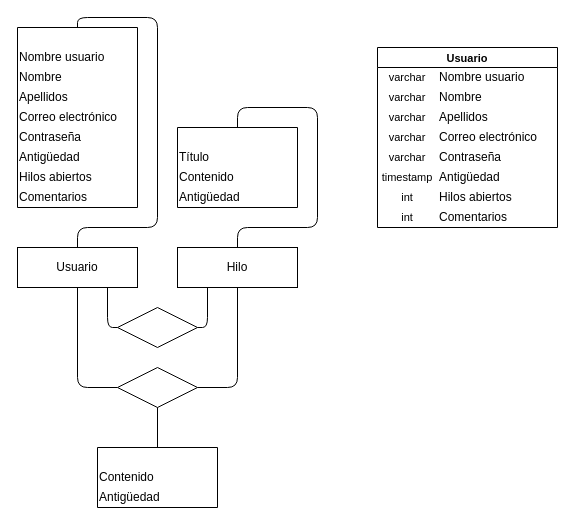
Some shapes in this 575 by 525 pixel diagram are drawn without their labels. The box of each missing label's shape, as (x1, y1, x2, y2) in pixels:
Añade: (116, 366, 198, 408)
Crear: (116, 306, 198, 348)
